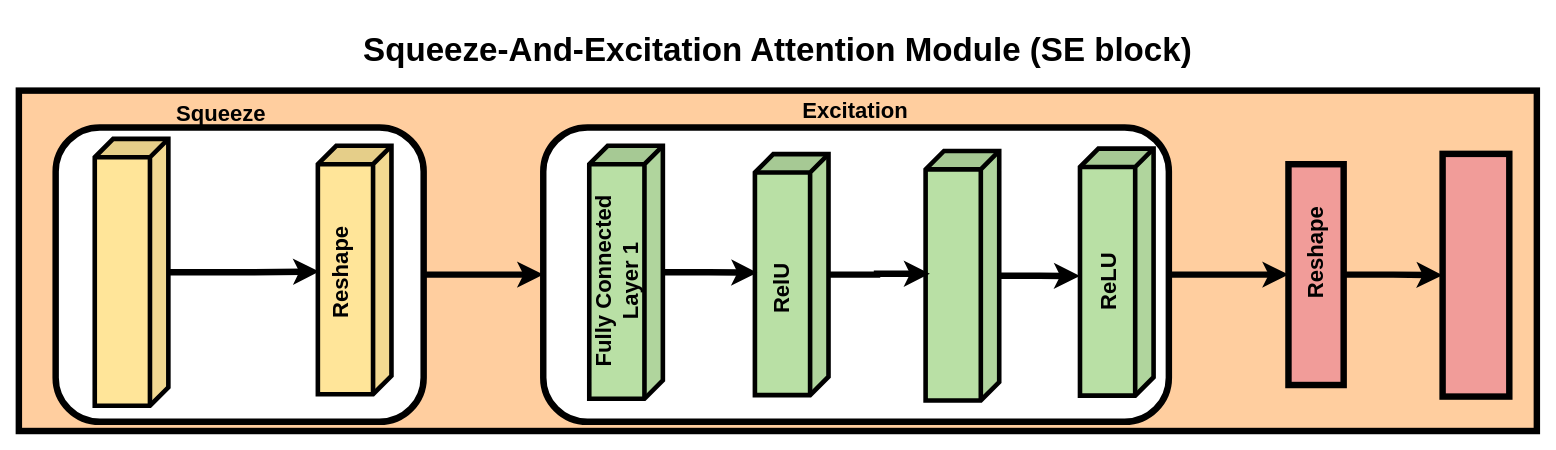
Some shapes in this 1556 by 450 pixel diagram are drawn without their labels. Here are the shapes that lost their labels. From the top down, the centre of each, then its label:
(x=131, y=272): Global Average Pooling
(x=962, y=275): Fully Connected Layer 2
(x=1475, y=274): Element-wise Multiplication
